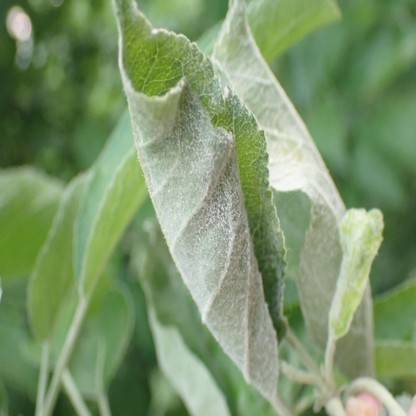powder: (114, 0, 287, 395), (211, 1, 373, 381), (333, 255, 356, 324)
